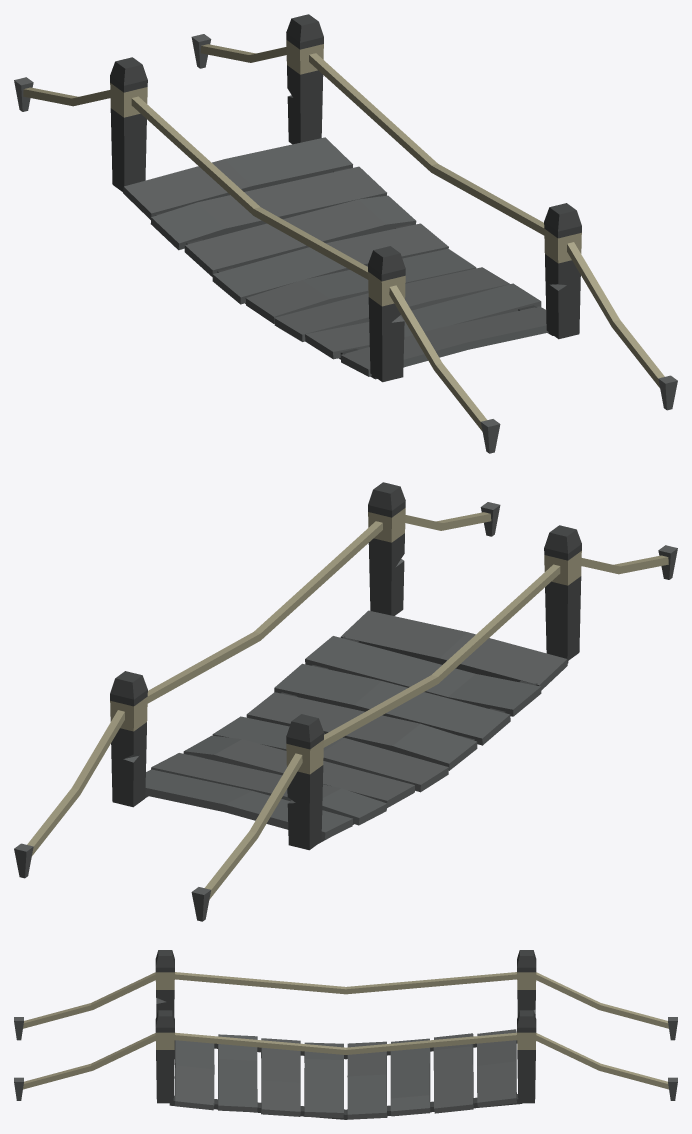
The model's file is Bridge_4_Gray.fbx.
3 views of the same model, one above another, from view 1: azimuth 30°, elevation 25°; view 2: azimuth 150°, elevation 25°; view 3: azimuth 270°, elevation 25° (orthographic). The views are drawn at different scales.
Visible parts, largest first — view 1: Bridge_4_Gray_Part_1, Bridge_4_Gray_Part_3, Bridge_4_Gray_Part_2; view 2: Bridge_4_Gray_Part_1, Bridge_4_Gray_Part_3, Bridge_4_Gray_Part_2; view 3: Bridge_4_Gray_Part_1, Bridge_4_Gray_Part_3, Bridge_4_Gray_Part_2.
Part boxes in pixels (left/top/right/bottom): Bridge_4_Gray_Part_1: left=14, top=34, right=677, bottom=453; Bridge_4_Gray_Part_3: left=23, top=40, right=664, bottom=431; Bridge_4_Gray_Part_2: left=110, top=14, right=581, bottom=382; Bridge_4_Gray_Part_1: left=14, top=502, right=677, bottom=921; Bridge_4_Gray_Part_3: left=27, top=508, right=668, bottom=899; Bridge_4_Gray_Part_2: left=110, top=482, right=581, bottom=850; Bridge_4_Gray_Part_1: left=14, top=997, right=677, bottom=1119; Bridge_4_Gray_Part_3: left=23, top=972, right=668, bottom=1089; Bridge_4_Gray_Part_2: left=155, top=950, right=536, bottom=1119.
Size of the model in its own units: 300 by 204 by 1183.
